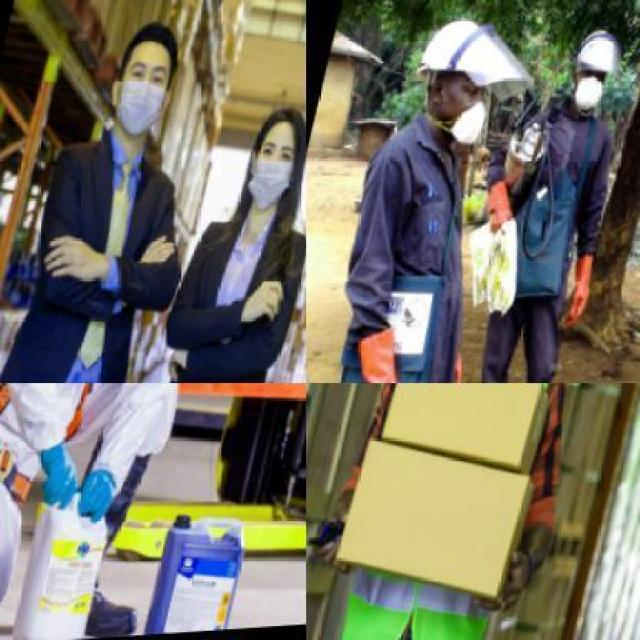vest: (337, 383, 572, 639), (0, 383, 228, 492)
